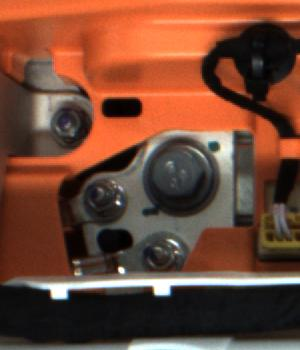screw_s: (51, 109, 89, 148), (84, 179, 125, 215), (145, 238, 181, 271)
